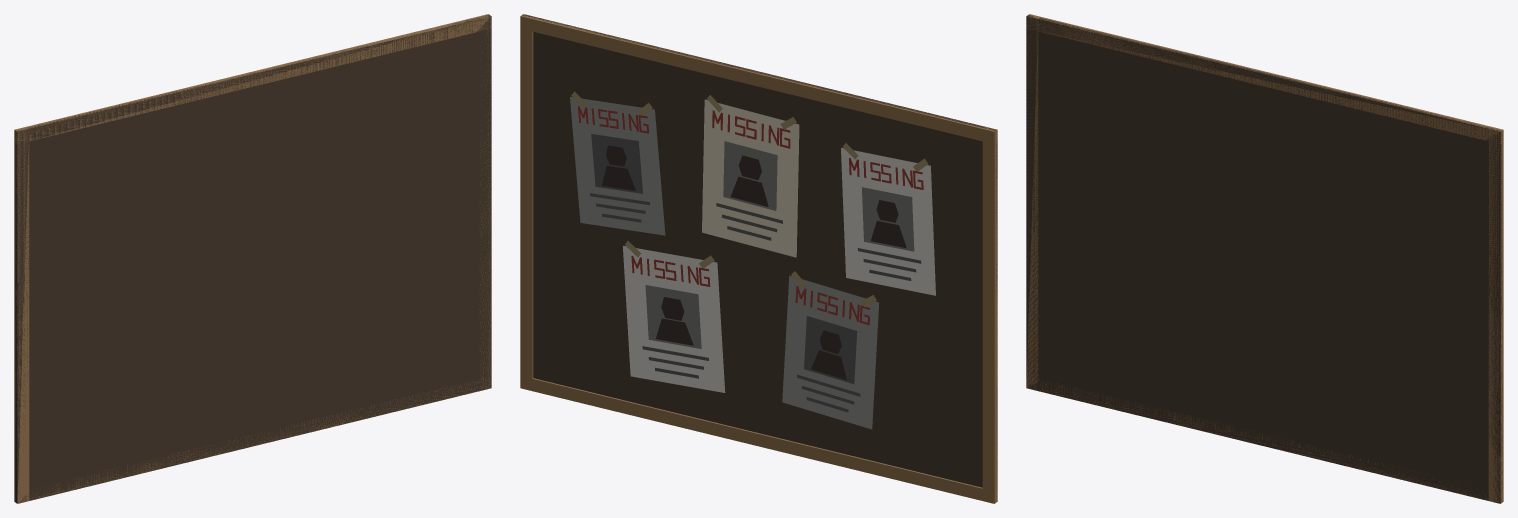
File: poster_wall.glb
3 renders of one model, left to right at view 1: azimuth 30°, elevation 25°; view 2: azimuth 150°, elevation 25°; view 3: azimuth 330°, elevation 25°, orthographic.
Parts seen in each view (by area): view 1: poster_wall; view 2: poster_wall; view 3: poster_wall.
Boxes of the visible parts, x1=… form: poster_wall: x1=14, y1=14, x2=491, y2=503; poster_wall: x1=520, y1=14, x2=997, y2=503; poster_wall: x1=1026, y1=14, x2=1503, y2=503.
Size of the model in its own units: 2 by 1.5 by 0.047.
3 materials, 3 textured.
